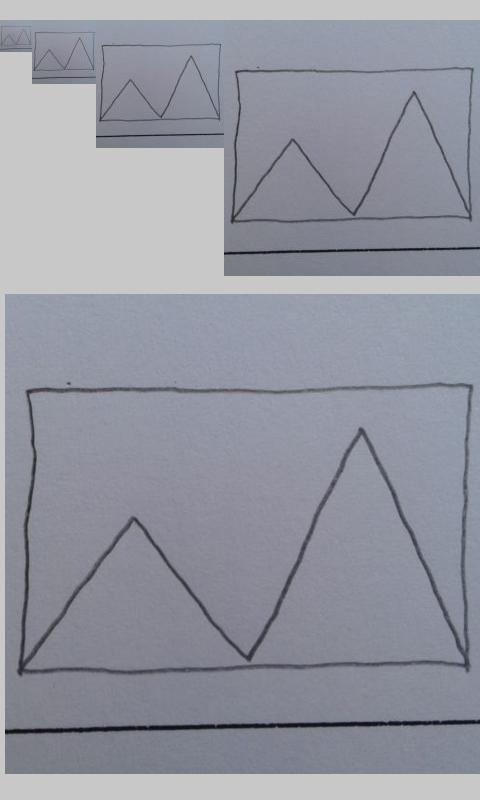image_view: (11, 381, 470, 673), (231, 64, 475, 228), (100, 43, 223, 121), (33, 31, 95, 72), (1, 25, 31, 47)
